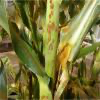Corn rust leaf: (1, 1, 44, 77), (62, 1, 99, 71)
